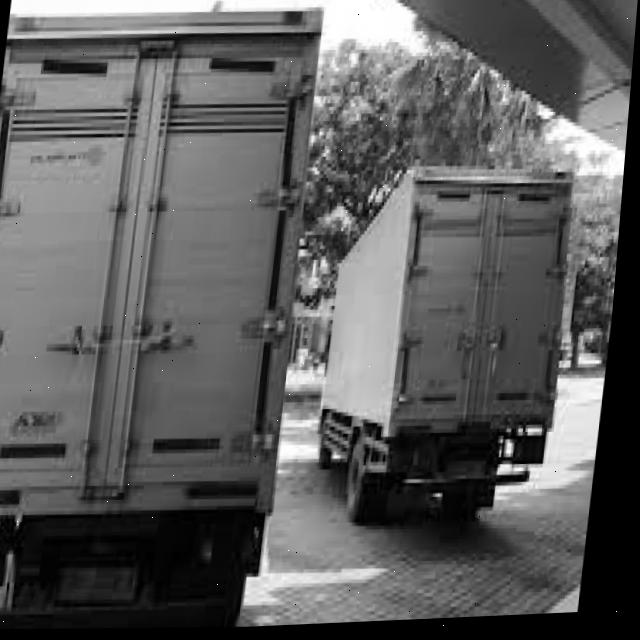truck: (1, 1, 339, 640), (309, 150, 600, 546)
